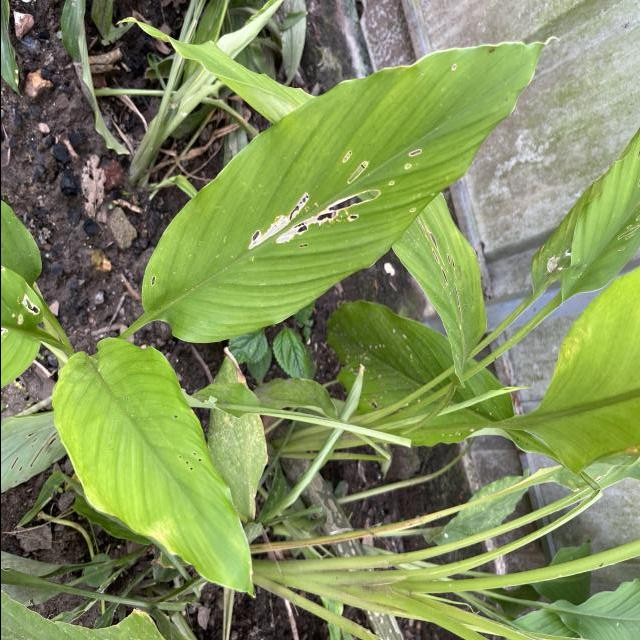Curcuma longa: (135, 26, 568, 352), (45, 331, 264, 605)
